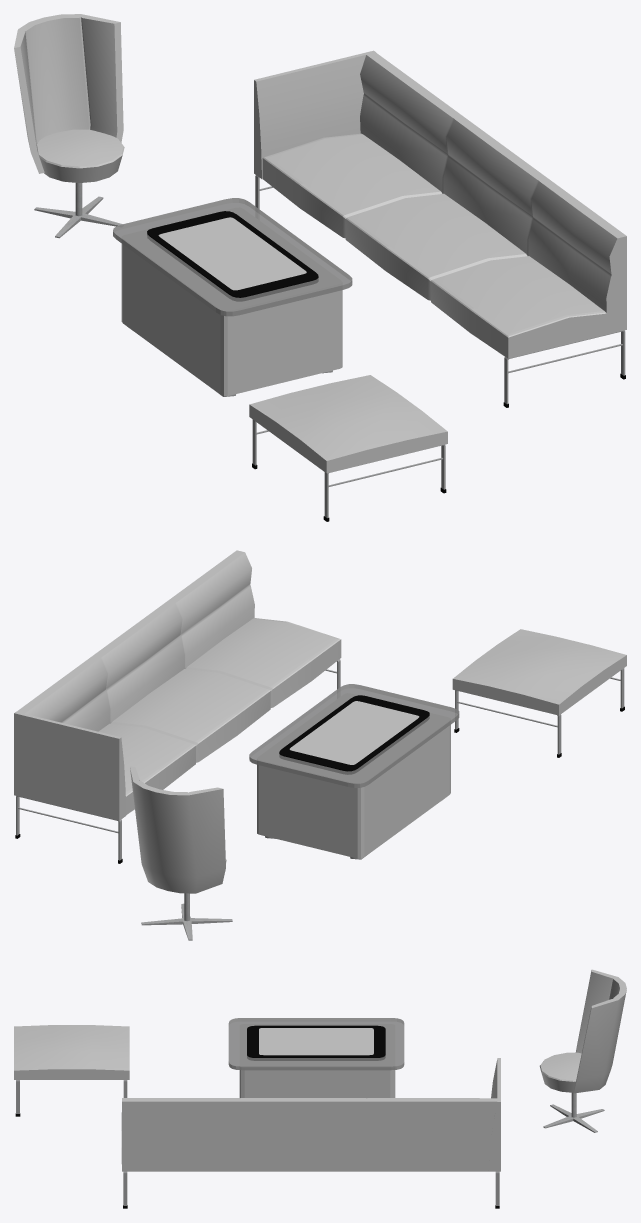
File: lounge.FBX
3 renders of one model, top to bottom at view 1: azimuth 30°, elevation 25°; view 2: azimuth 150°, elevation 25°; view 3: azimuth 270°, elevation 25°, orthographic. The views are drawn at different scales.
Visible parts, largest first — view 1: furniture_lr01, table_s, furniture_lr03, furniture_lr02; view 2: furniture_lr01, table_s, furniture_lr02, furniture_lr03; view 3: furniture_lr01, table_s, furniture_lr02, furniture_lr03.
Part boxes in pixels (<box>): furniture_lr01: <box>254,50,626,407</box>; table_s: <box>113,198,352,396</box>; furniture_lr03: <box>14,14,124,238</box>; furniture_lr02: <box>249,375,447,521</box>; furniture_lr01: <box>14,550,341,863</box>; table_s: <box>249,684,459,859</box>; furniture_lr02: <box>452,629,626,757</box>; furniture_lr03: <box>130,766,232,940</box>; furniture_lr01: <box>121,1058,500,1208</box>; table_s: <box>228,1018,404,1098</box>; furniture_lr02: <box>14,1025,129,1116</box>; furniture_lr03: <box>539,969,626,1132</box>.
Size of the model in its own units: 2.37 by 1.06 by 4.52.
